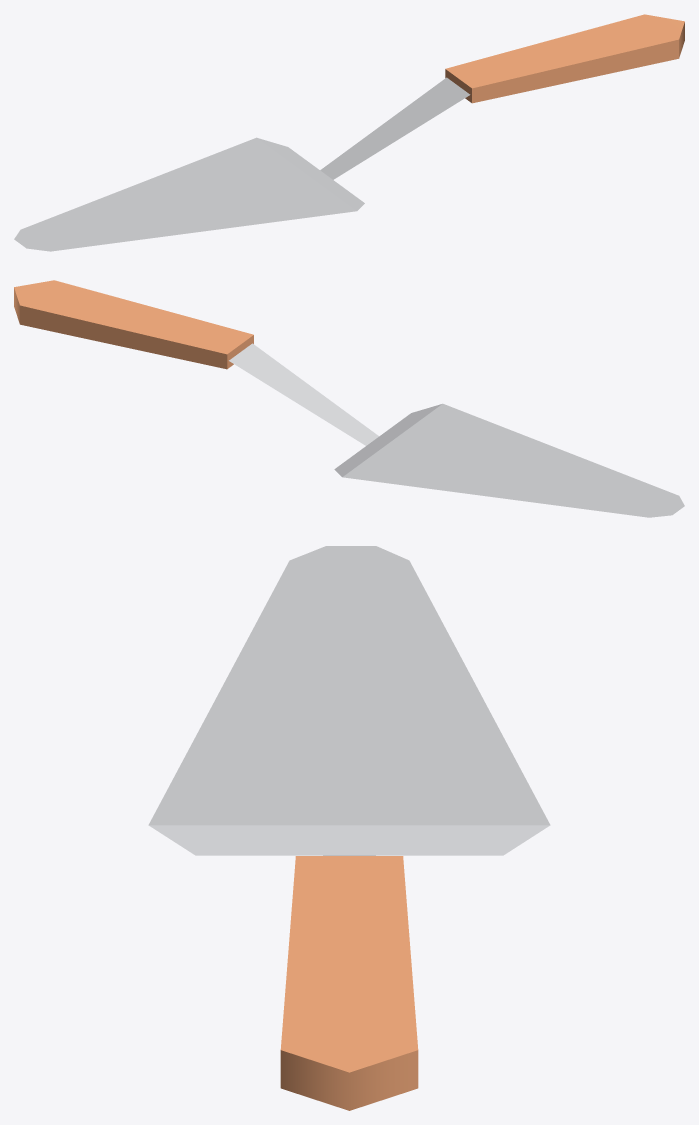
File: Cake Slicer.glb
3 renders of one model, top to bottom at view 1: azimuth 30°, elevation 25°; view 2: azimuth 150°, elevation 25°; view 3: azimuth 270°, elevation 25°, orthographic. The views are drawn at different scales.
Parts seen in each view (by area): view 1: cakeSlicer; view 2: cakeSlicer; view 3: cakeSlicer.
Boxes of the visible parts, bbox=[...] form: cakeSlicer: bbox=[14, 14, 684, 251]; cakeSlicer: bbox=[14, 280, 684, 517]; cakeSlicer: bbox=[148, 546, 550, 1110].
Bounding box in the file's own units: 0.7246 × 0.0692 × 0.19.
